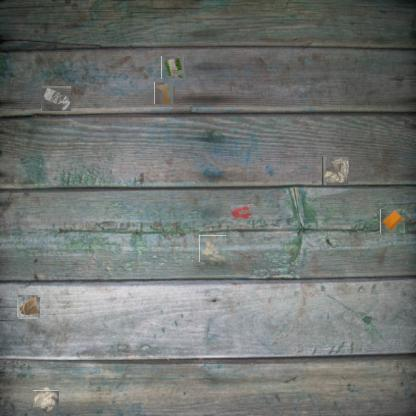dirty: (322, 158, 350, 186), (41, 85, 71, 111), (199, 235, 226, 262), (380, 209, 405, 233), (161, 56, 185, 79), (17, 296, 39, 318), (36, 388, 57, 410)
liquid: (154, 83, 174, 104), (231, 204, 253, 220)
